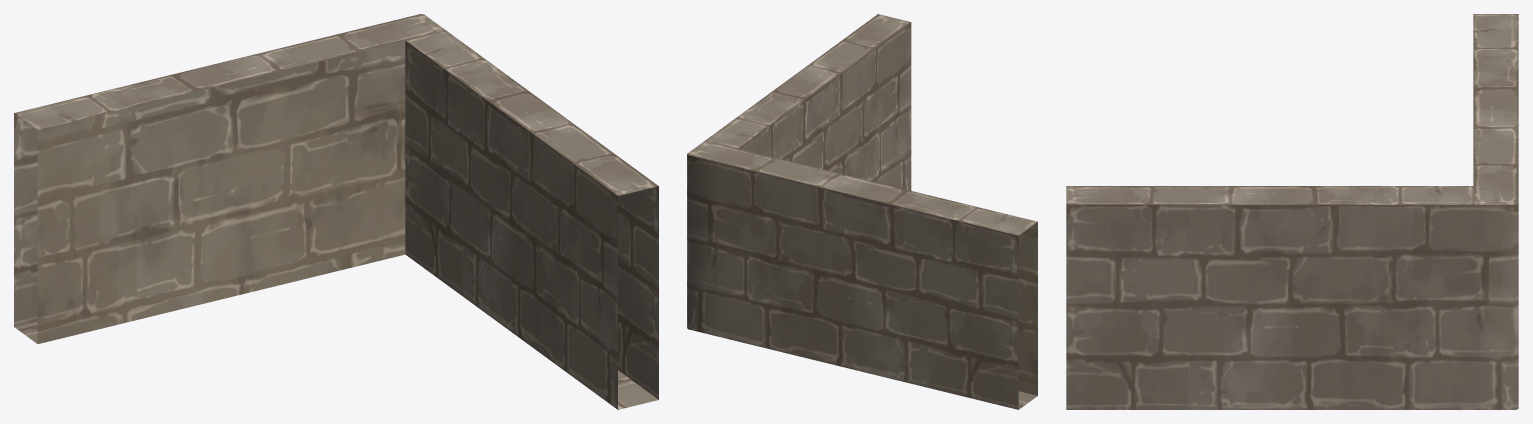
File: Stairs_Exterior_Sides45.glb
3 renders of one model, left to right at view 1: azimuth 30°, elevation 25°; view 2: azimuth 150°, elevation 25°; view 3: azimuth 270°, elevation 25°, orthographic. The views are drawn at different scales.
Parts seen in each view (by area): view 1: Stairs_Exterior_Sides45; view 2: Stairs_Exterior_Sides45; view 3: Stairs_Exterior_Sides45.
Part boxes in pixels (x1=…): Stairs_Exterior_Sides45: x1=14, y1=14, x2=658, y2=409; Stairs_Exterior_Sides45: x1=687, y1=14, x2=1037, y2=409; Stairs_Exterior_Sides45: x1=1066, y1=14, x2=1518, y2=409.
Bounding box in the file's own units: 2 × 1 × 2.
1 material, 1 textured.
